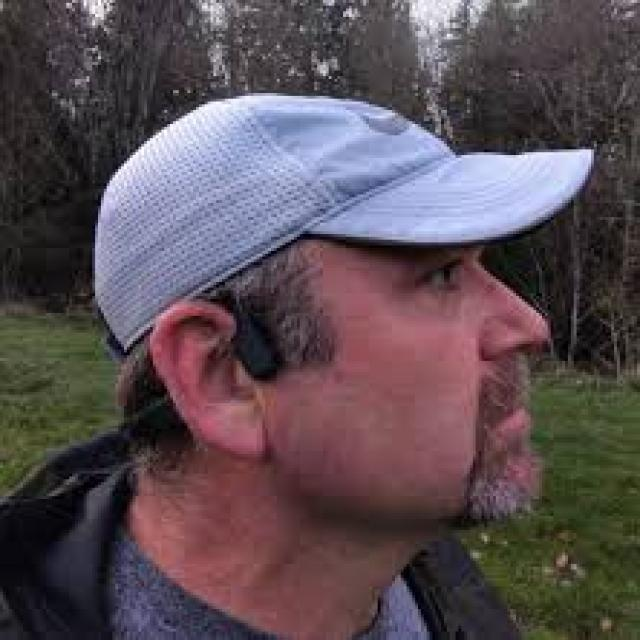cap: (68, 68, 599, 360)
